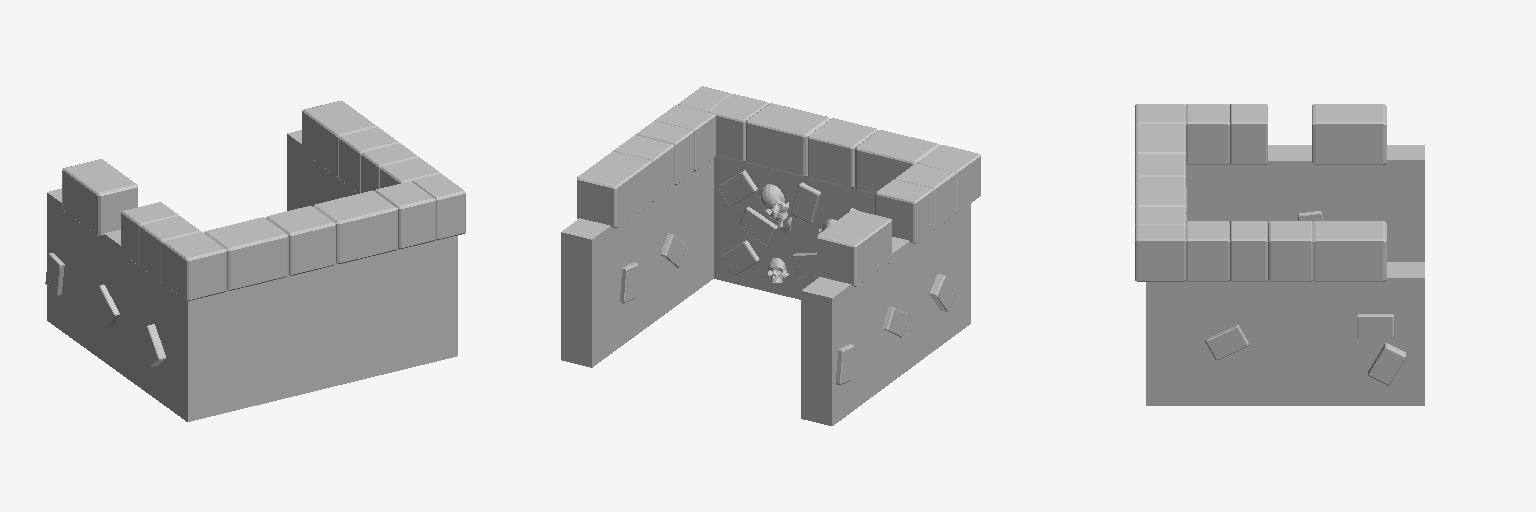
Rendered from Vivienda4.obj.
3 views of the same model, side by side, from view 1: azimuth 30°, elevation 25°; view 2: azimuth 150°, elevation 25°; view 3: azimuth 270°, elevation 25° (orthographic).
Parts seen in each view (by area): view 1: Vivienda3:LP; view 2: Vivienda3:LP; view 3: Vivienda3:LP.
Boxes of the visible parts, box(x1,y1,x2,y2) form: Vivienda3:LP: box(45, 101, 465, 421); Vivienda3:LP: box(561, 86, 980, 425); Vivienda3:LP: box(1135, 104, 1424, 405).
Bounding box in the file's own units: 48.43 × 27.13 × 42.47.